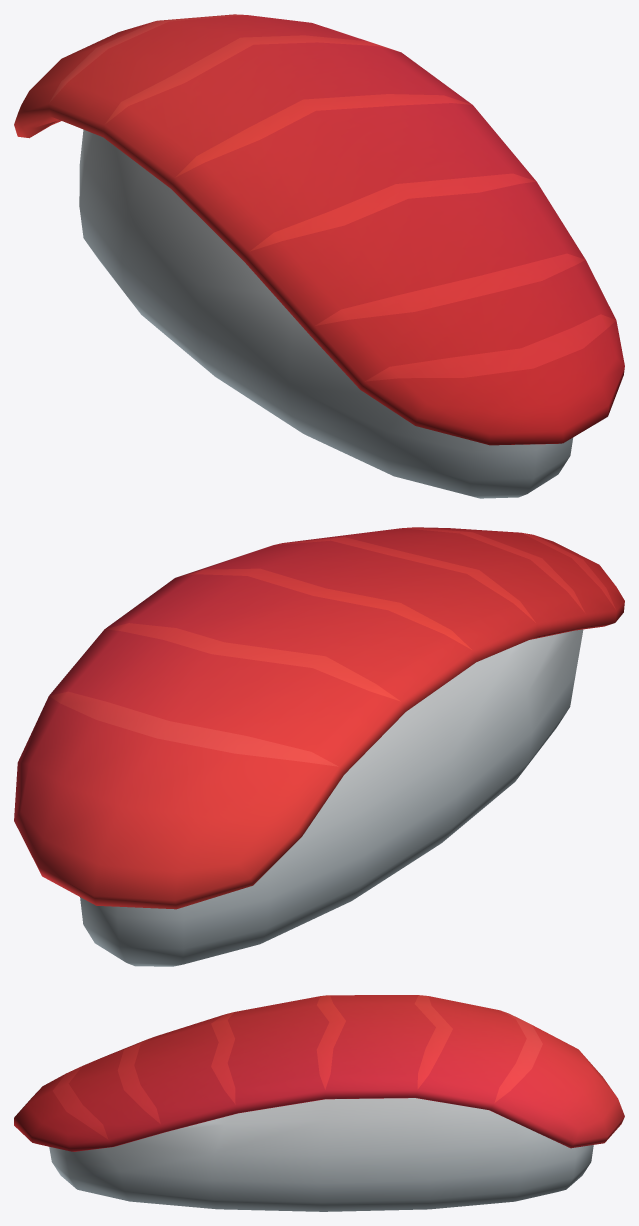
The model's file is sushi_002.fbx.
3 renders of one model, top to bottom at view 1: azimuth 30°, elevation 25°; view 2: azimuth 150°, elevation 25°; view 3: azimuth 270°, elevation 25°, orthographic. The views are drawn at different scales.
Parts seen in each view (by area): view 1: sushi_002; view 2: sushi_002; view 3: sushi_002.
Boxes of the visible parts, x1,y1,x2,y2 form: sushi_002: (14, 14, 624, 498); sushi_002: (14, 527, 624, 966); sushi_002: (14, 995, 624, 1211).
Bounding box in the file's own units: 3.48 × 9.29 × 2.75.
